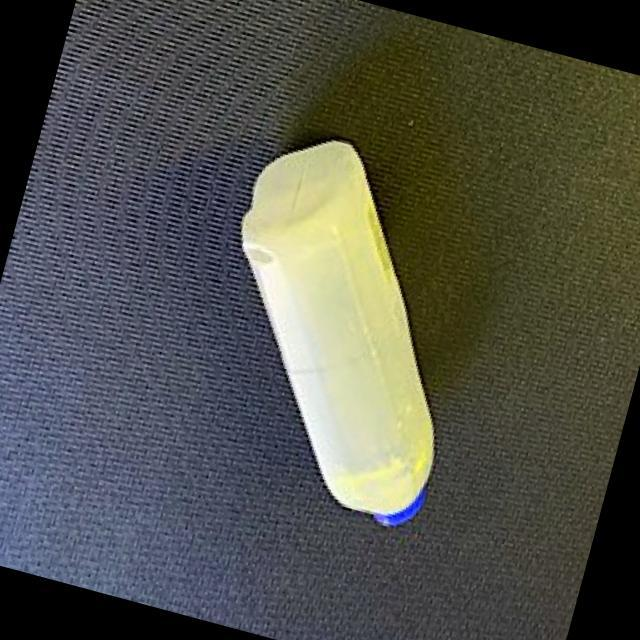HDPE Plastic: (235, 134, 445, 534)
